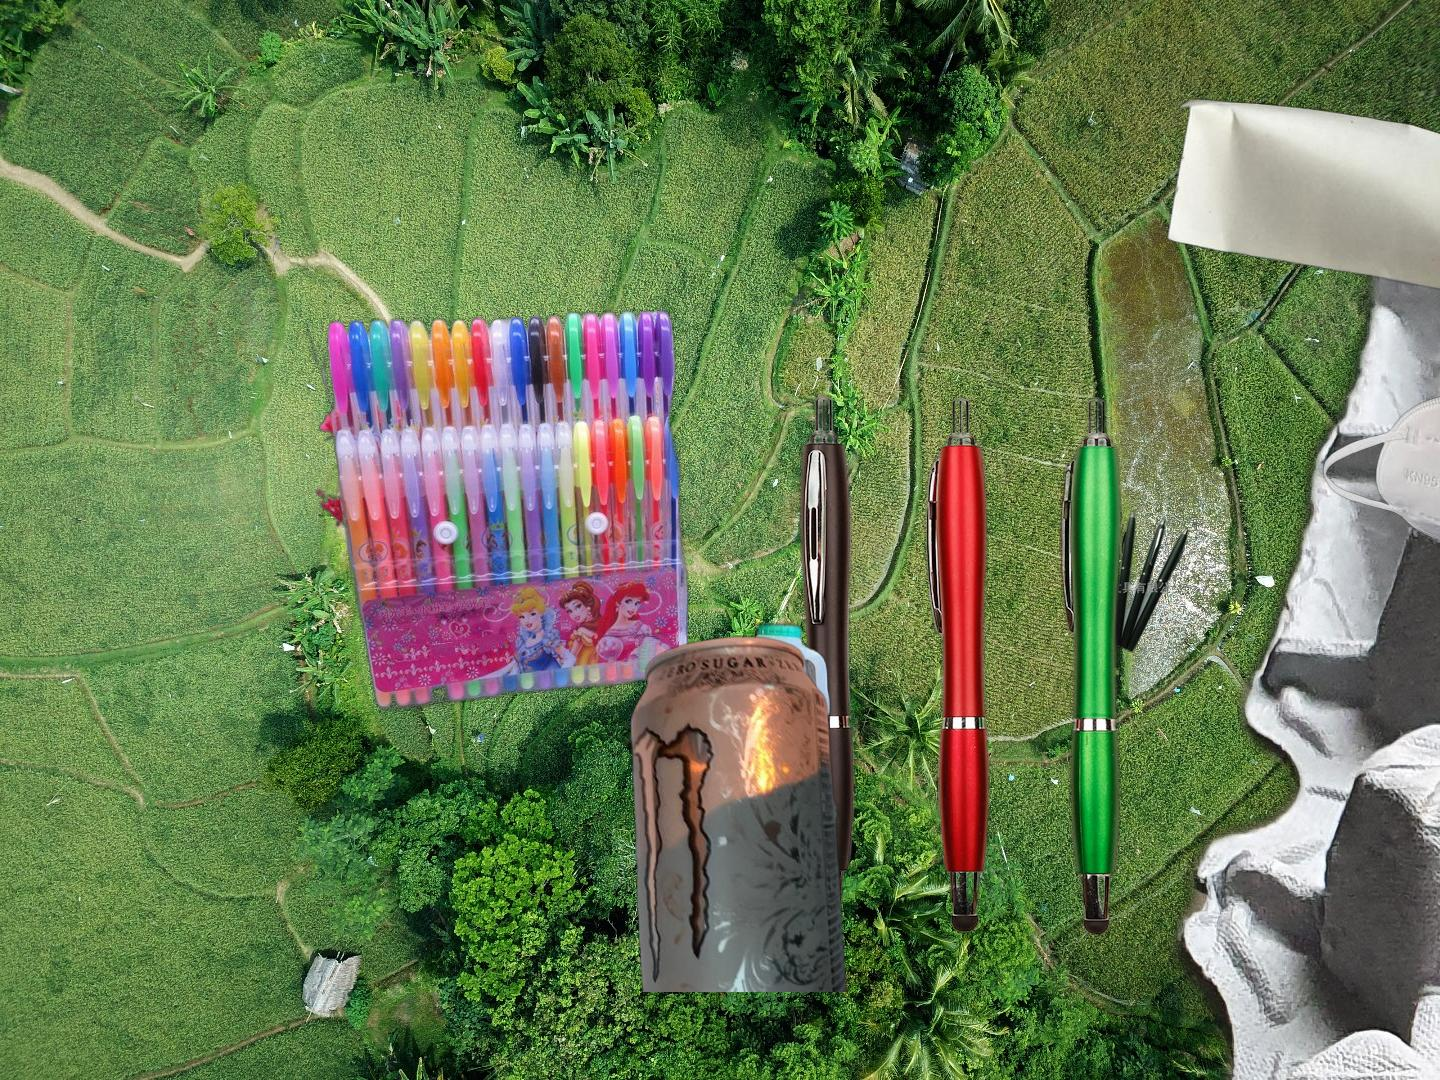metal-cans: (626, 633, 852, 992)
paper: (1162, 95, 1440, 295)
penholder: (795, 388, 1128, 942), (306, 306, 695, 715), (1050, 511, 1192, 659)
plastic-bottles: (707, 617, 834, 788)
trash: (1320, 380, 1440, 568)
trashbox-cardboard: (987, 111, 1440, 1080)
